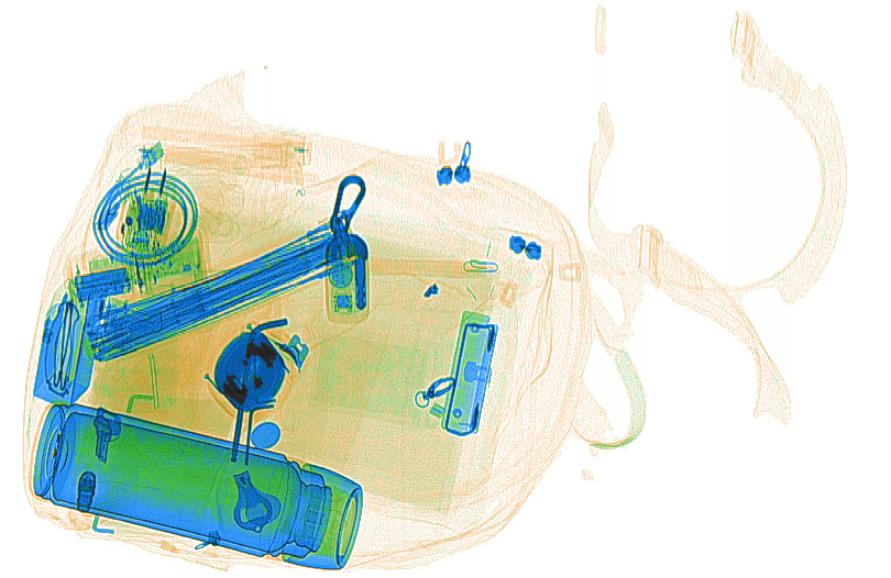battery: (73, 265, 134, 304)
